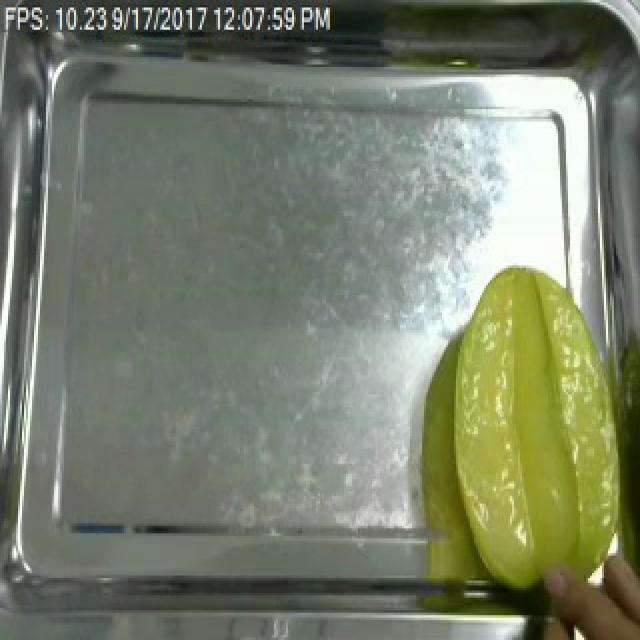fruit: (434, 260, 638, 606), (358, 0, 636, 87)
